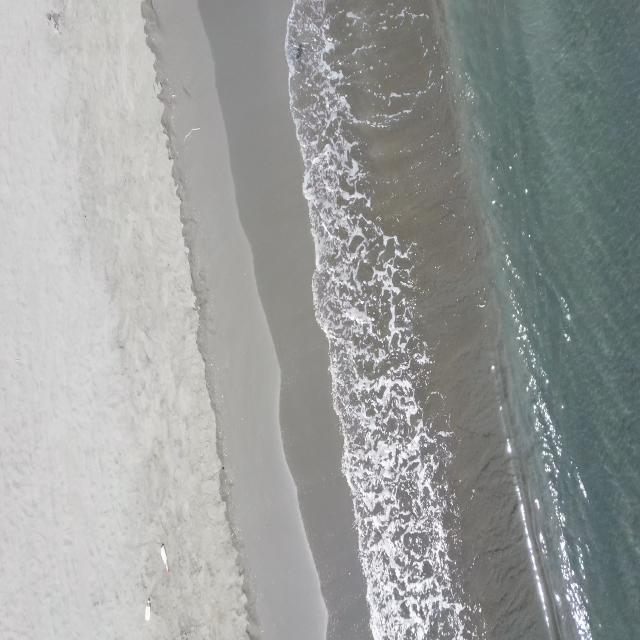plastic-bottle: (160, 543, 169, 574), (144, 600, 152, 623)
